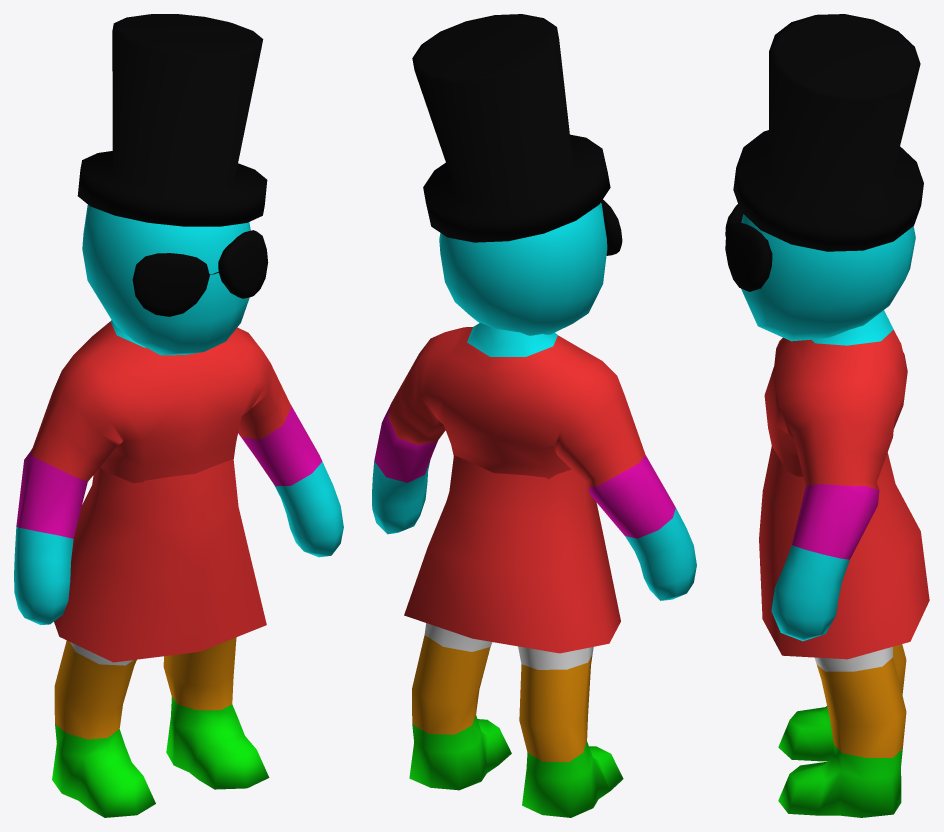
The model's file is stubbyperson.fbx.
The picture shows the model from 3 angles, left to right: view 1: azimuth 30°, elevation 25°; view 2: azimuth 150°, elevation 25°; view 3: azimuth 270°, elevation 25°; orthographic projection.
Parts seen in each view (by area): view 1: PersonBody, PersonDress, PersonHat, PersonSunglasses; view 2: PersonBody, PersonHat, PersonDress, PersonSunglasses; view 3: PersonBody, PersonHat, PersonDress, PersonSunglasses.
Boxes of the visible parts, x1,y1,x2,y2 form: PersonBody: [14, 205, 343, 817]; PersonDress: [54, 459, 266, 662]; PersonHat: [77, 14, 267, 226]; PersonSunglasses: [132, 230, 268, 316]; PersonBody: [372, 202, 696, 817]; PersonHat: [412, 14, 610, 242]; PersonDress: [404, 455, 620, 653]; PersonSunglasses: [601, 199, 622, 255]; PersonBody: [741, 214, 915, 817]; PersonHat: [733, 14, 923, 251]; PersonDress: [759, 446, 929, 659]; PersonSunglasses: [725, 204, 772, 291].
Bounding box in the file's own units: 224 × 507 × 125.
